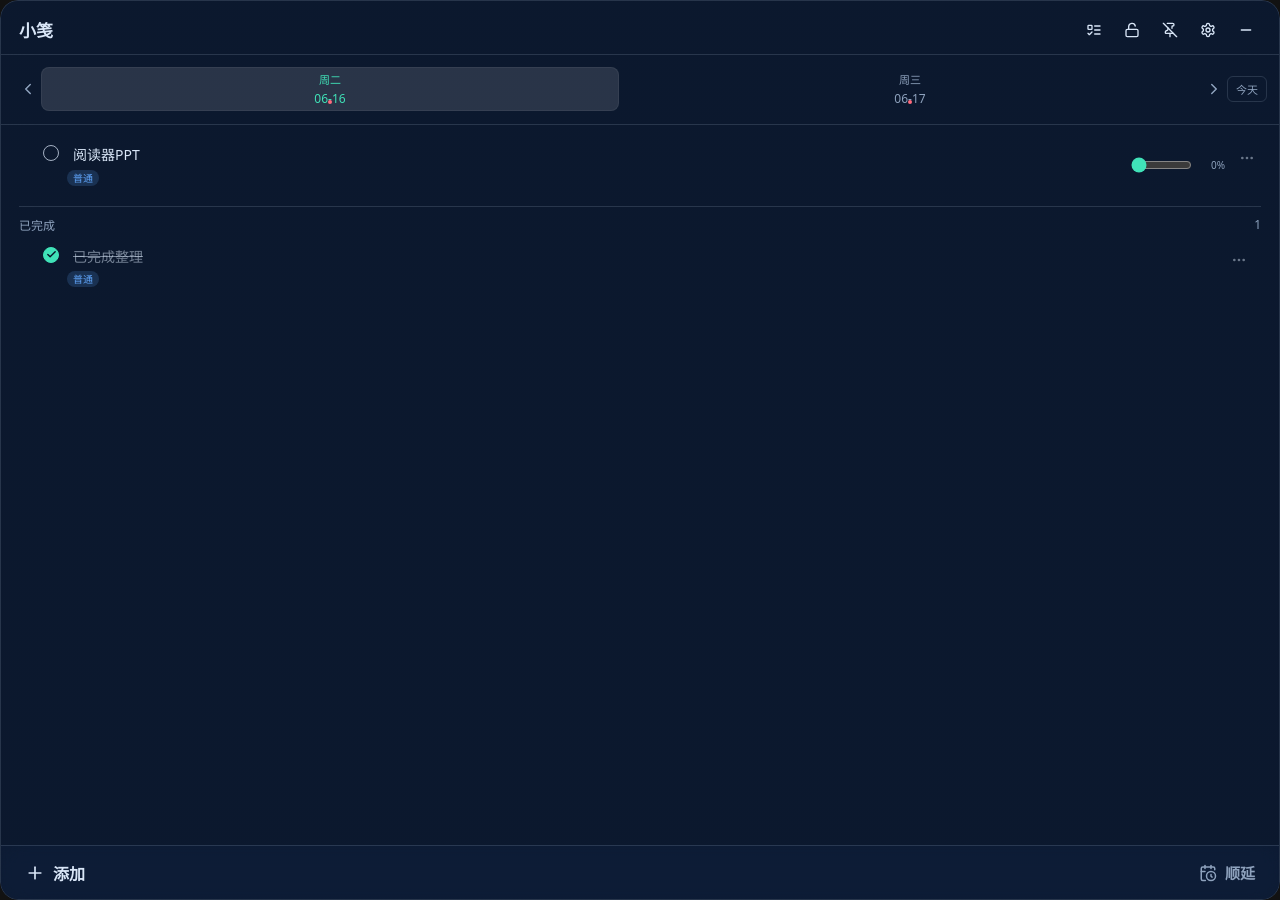
it: MainPage display layout › opens the about panel from the title bar
The image size is (1280, 900).
Click the button with aria-label "关于 TinyNote" at point(36, 30), box [14,13,58,46]
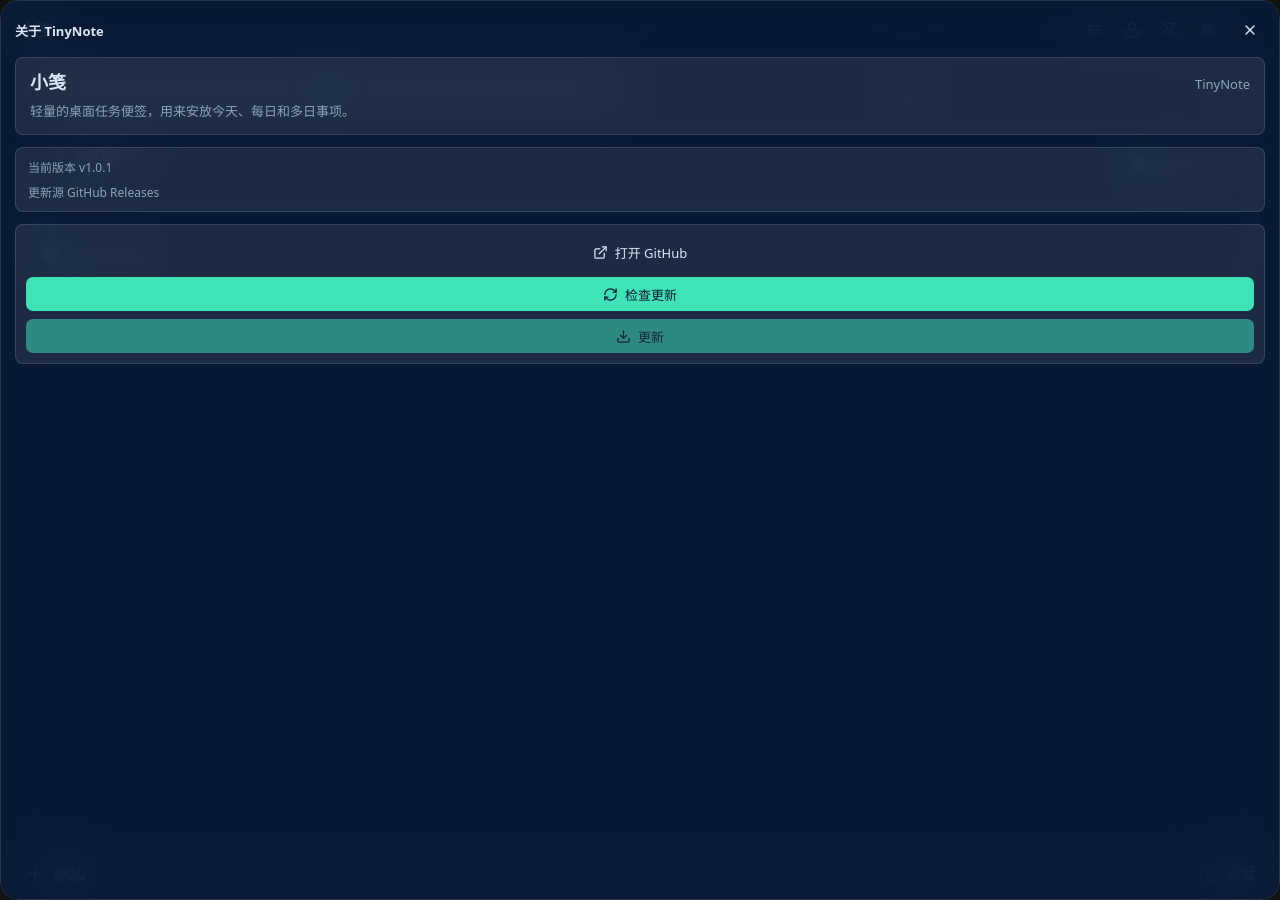
Result: the element "关于 TinyNote" is shown
Result: the text "当前版本 v1.0.1" is shown at [28,159,112,176]
